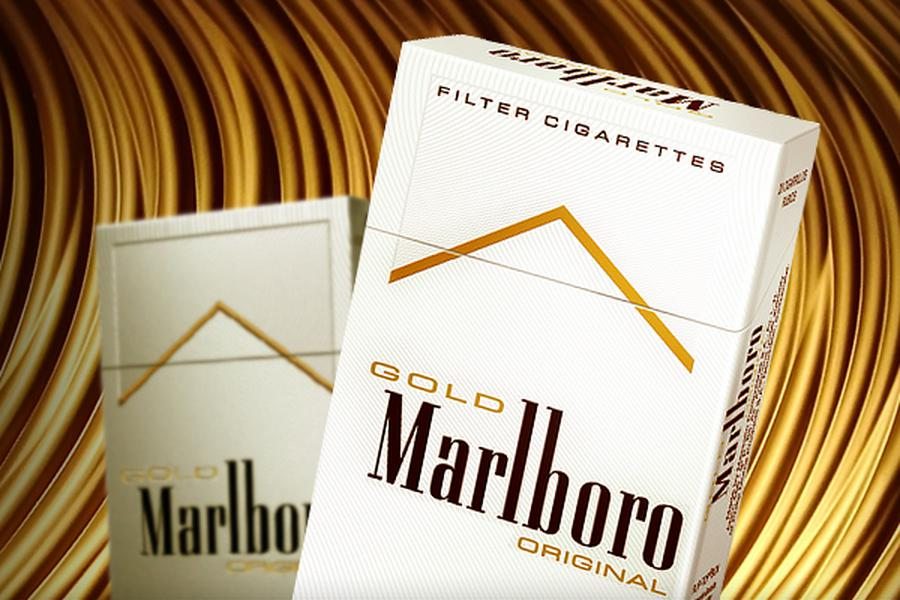marlboro_gold: (366, 125, 715, 600), (106, 227, 346, 600)
